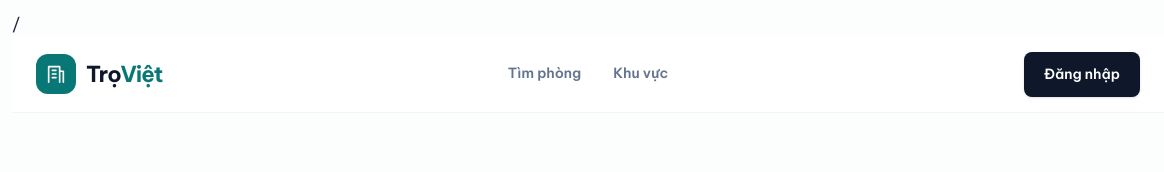
client-side navigation links › sends a guest to the login page from the navbar
The width and height of the screenshot is (1164, 172).
Click the link "Đăng nhập": (1082, 74) [1024, 52, 1140, 96]
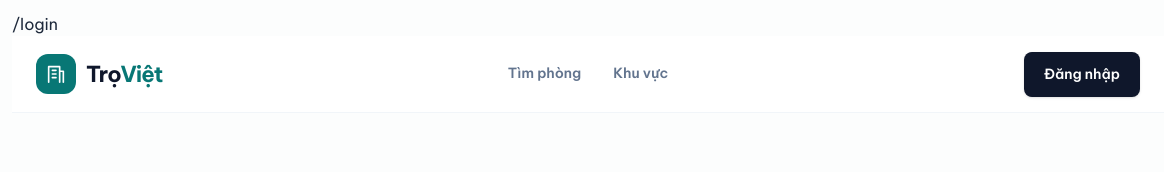
Expected: the text with test id "path" reads "/login", [12, 14, 58, 34]
